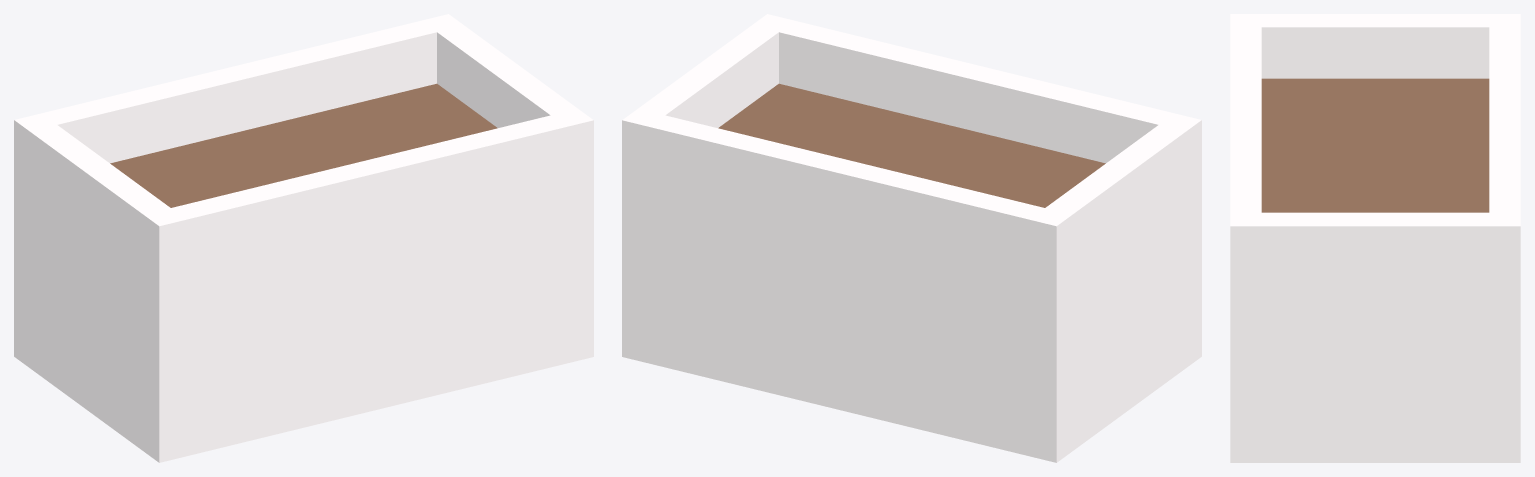
The model's file is hochbeet_metall.glb.
3 renders of one model, left to right at view 1: azimuth 30°, elevation 25°; view 2: azimuth 150°, elevation 25°; view 3: azimuth 270°, elevation 25°, orthographic.
Visible parts, largest first — view 1: hochbeet_metall; view 2: hochbeet_metall; view 3: hochbeet_metall.
Boxes of the visible parts, left/top/right/bottom form: hochbeet_metall: left=14, top=14, right=593, bottom=462; hochbeet_metall: left=622, top=14, right=1201, bottom=462; hochbeet_metall: left=1230, top=14, right=1520, bottom=462.
Bounding box in the file's own units: 21.01 × 10.94 × 12.16.
